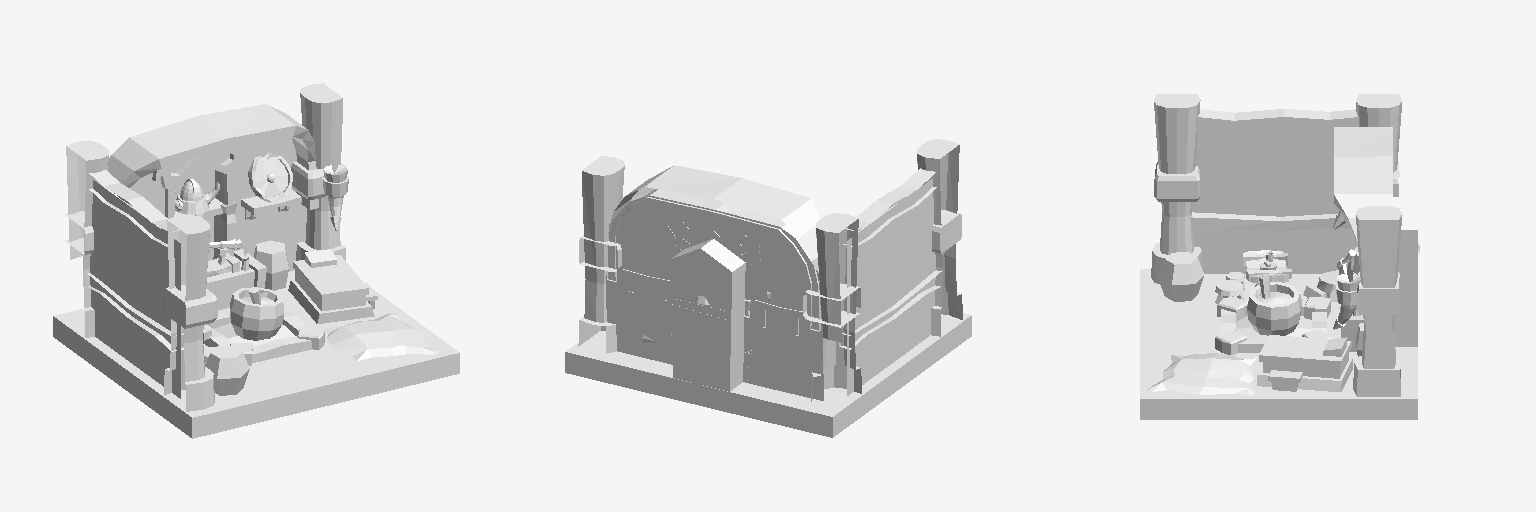
The model's file is viking_room.obj.
The picture shows the model from 3 angles: view 1: azimuth 30°, elevation 25°; view 2: azimuth 150°, elevation 25°; view 3: azimuth 270°, elevation 25°; orthographic projection.
Visible parts, largest first — view 1: mesh_all1_Mesh; view 2: mesh_all1_Mesh; view 3: mesh_all1_Mesh.
Part boxes in pixels (x1,y1,x2,y2): mesh_all1_Mesh: (53, 83, 459, 438); mesh_all1_Mesh: (565, 139, 971, 437); mesh_all1_Mesh: (1140, 94, 1419, 419).
Bounding box in the file's own units: 26.31 × 18.6 × 23.91.